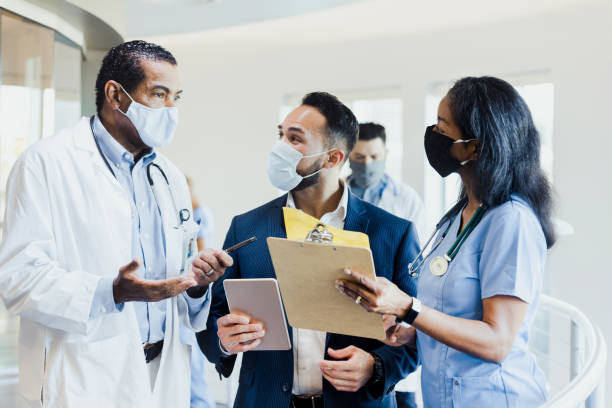with mask: (91, 27, 188, 157), (256, 90, 347, 196), (417, 79, 508, 185), (345, 131, 390, 188)
